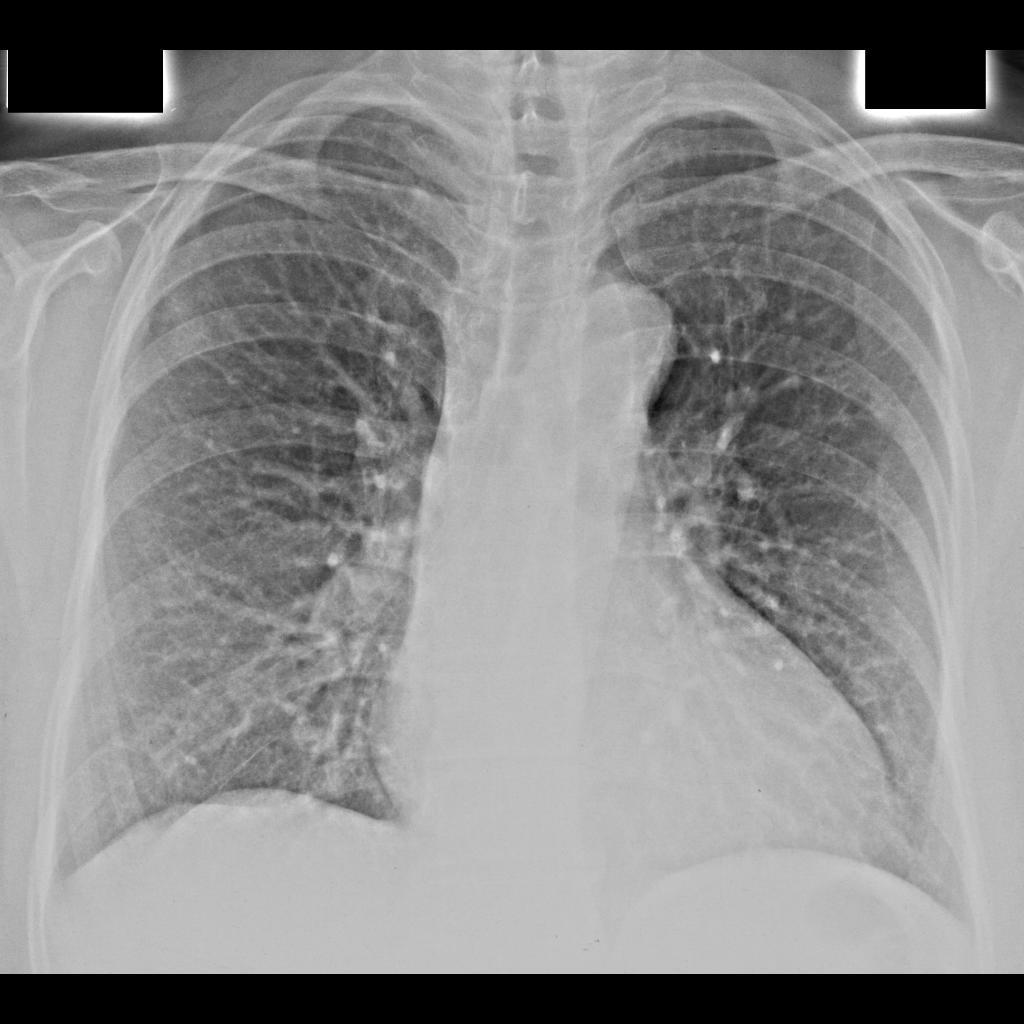Nodule: (168, 316, 206, 353)
